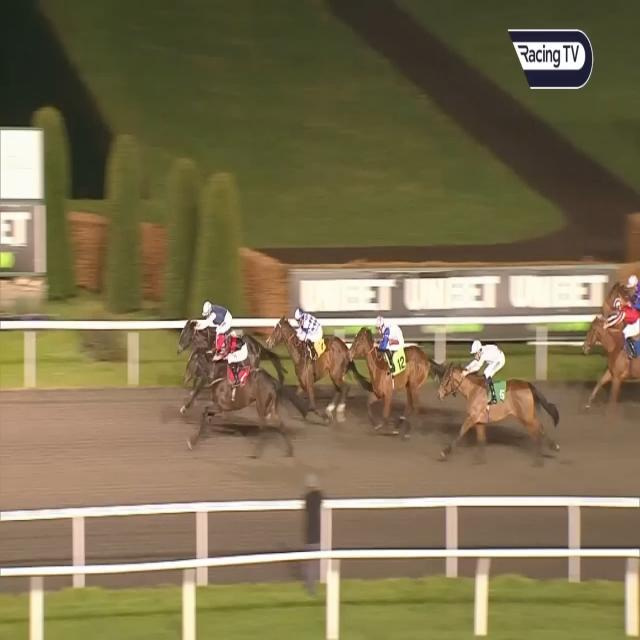horses-racing: (438, 337, 546, 461), (177, 333, 285, 439), (344, 309, 436, 430), (270, 305, 356, 413), (576, 295, 640, 414), (178, 291, 250, 357), (599, 273, 640, 318)
